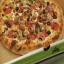olives: (11, 6, 22, 13), (25, 26, 34, 33), (5, 19, 11, 29), (45, 19, 52, 27), (38, 9, 47, 15), (26, 6, 32, 14), (24, 17, 32, 21)
pepperoni: (26, 28, 40, 40), (7, 29, 20, 38), (3, 5, 13, 16), (48, 21, 59, 31)
pizza: (1, 1, 64, 56)
